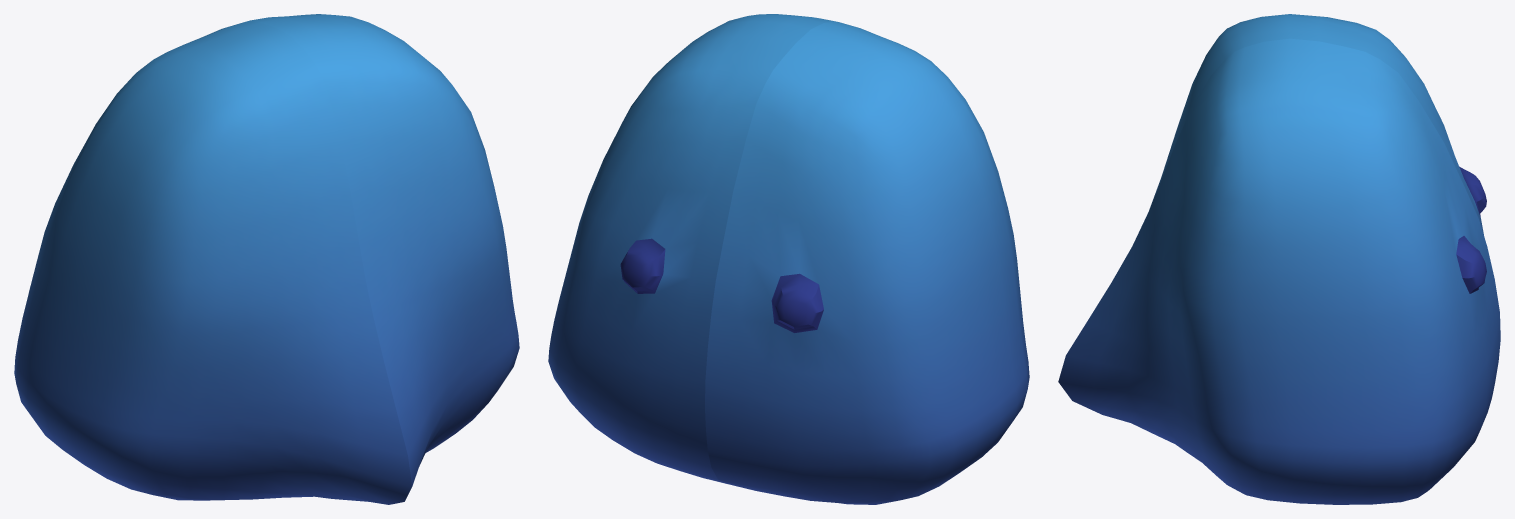
File: dino.fbx
The picture shows the model from 3 angles, left to right: view 1: azimuth 30°, elevation 25°; view 2: azimuth 150°, elevation 25°; view 3: azimuth 270°, elevation 25°; orthographic projection. The views are drawn at different scales.
Visible parts, largest first — view 1: catherinesbff:(; view 2: catherinesbff:(; view 3: catherinesbff:(.
Part boxes in pixels (bbox=[...]): catherinesbff:(: bbox=[14, 14, 519, 504]; catherinesbff:(: bbox=[548, 14, 1029, 504]; catherinesbff:(: bbox=[1058, 14, 1500, 504].
Size of the model in its own units: 190 by 173 by 173.
